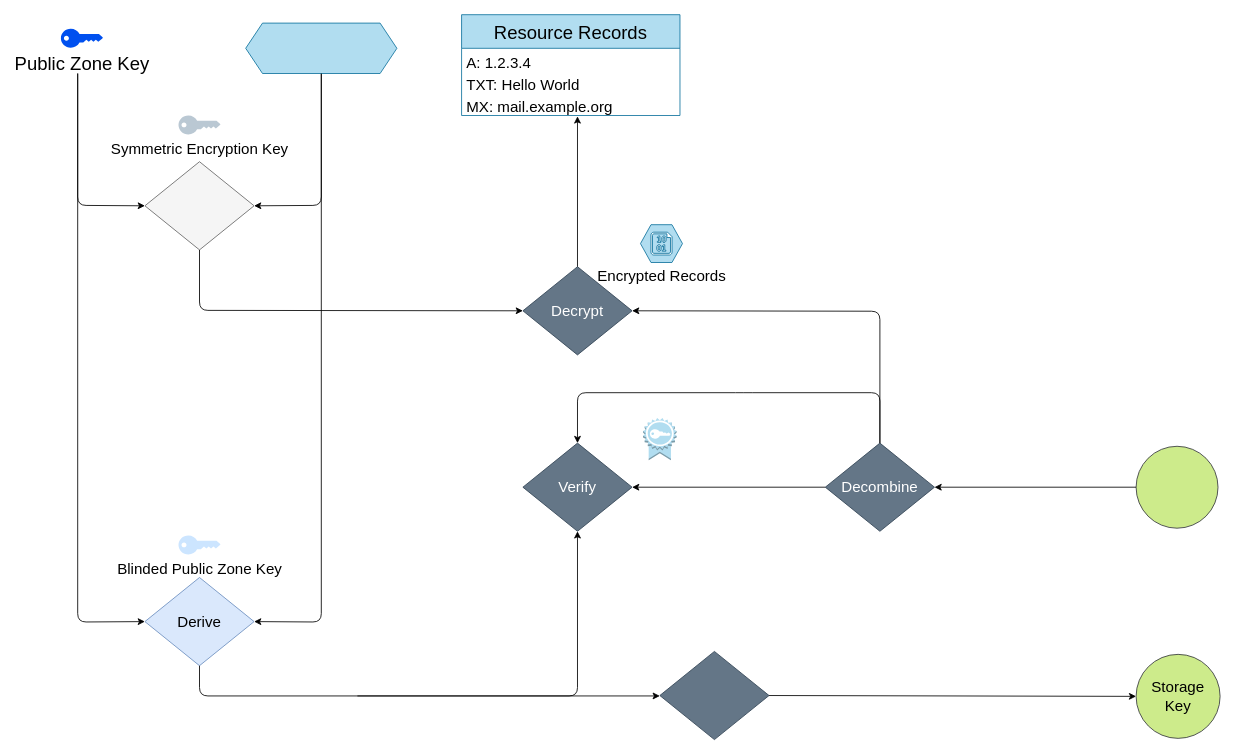
The diagram is 1235 pixels wide and 754 high, and some of its shapes have lost their labels. Each missing label, with the box of its shape:
Derive HKDF: (144, 161, 254, 250)
Hash: (659, 651, 769, 740)
Label: (245, 22, 397, 74)
Records Block: (1135, 445, 1218, 528)
Signature: (642, 417, 677, 460)
